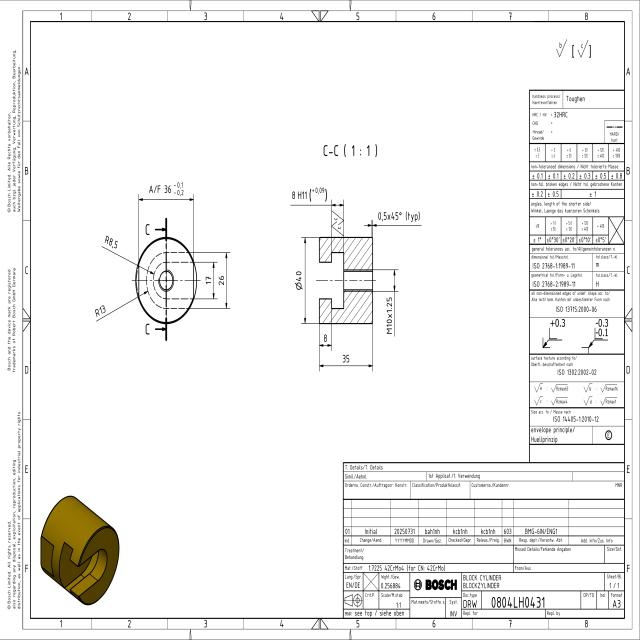dimension: (376, 208, 422, 224), (290, 185, 330, 203), (147, 180, 186, 197), (385, 295, 394, 335), (103, 232, 120, 250), (92, 300, 107, 320), (293, 270, 304, 292), (340, 352, 351, 364), (217, 274, 226, 288), (204, 274, 212, 286), (322, 332, 329, 344)
